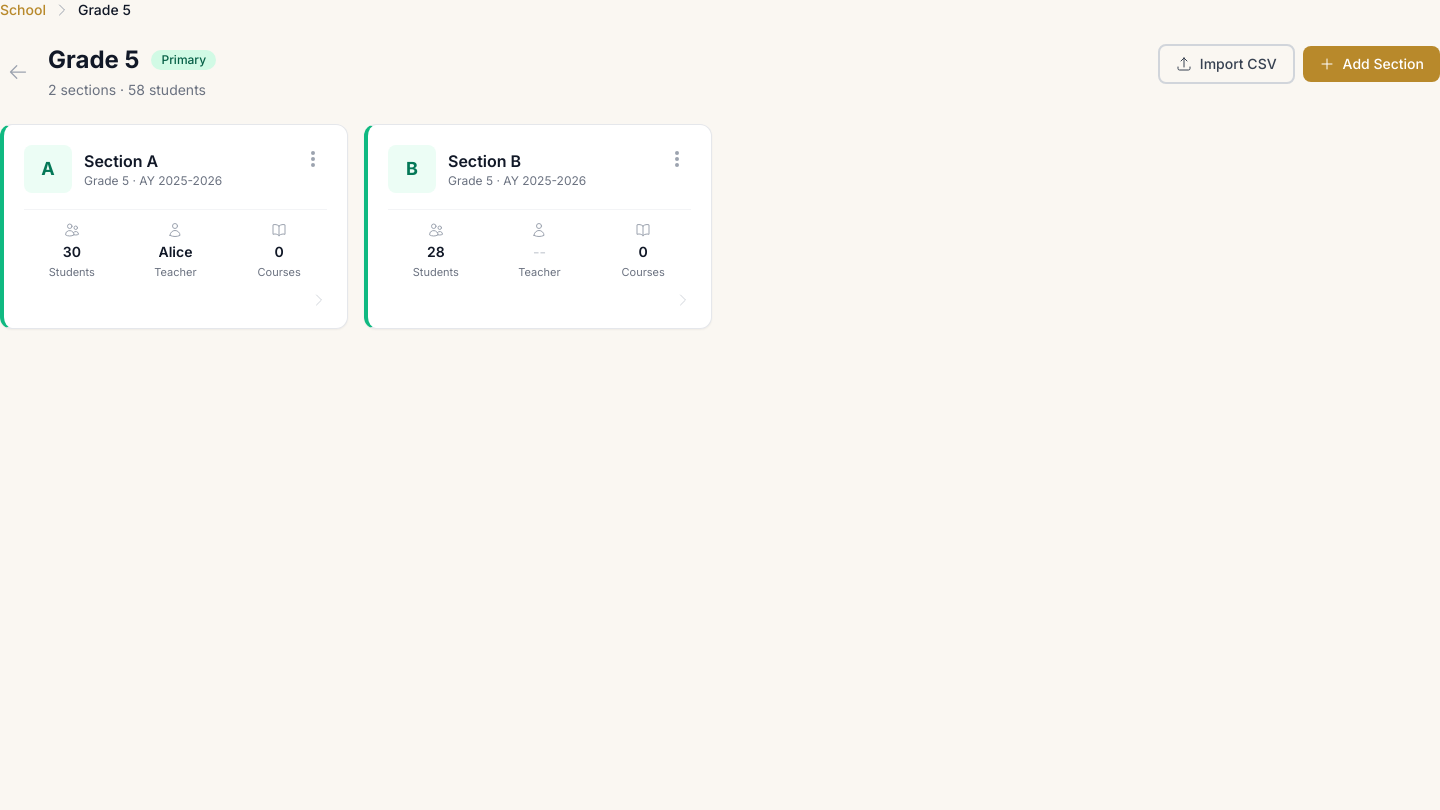
Test case: GradeDetailPage › 6. Add Section modal › submitting with empty section name shows "Section name is required"
Click the button "Add Section": [1371, 64] box [1303, 46, 1439, 82]
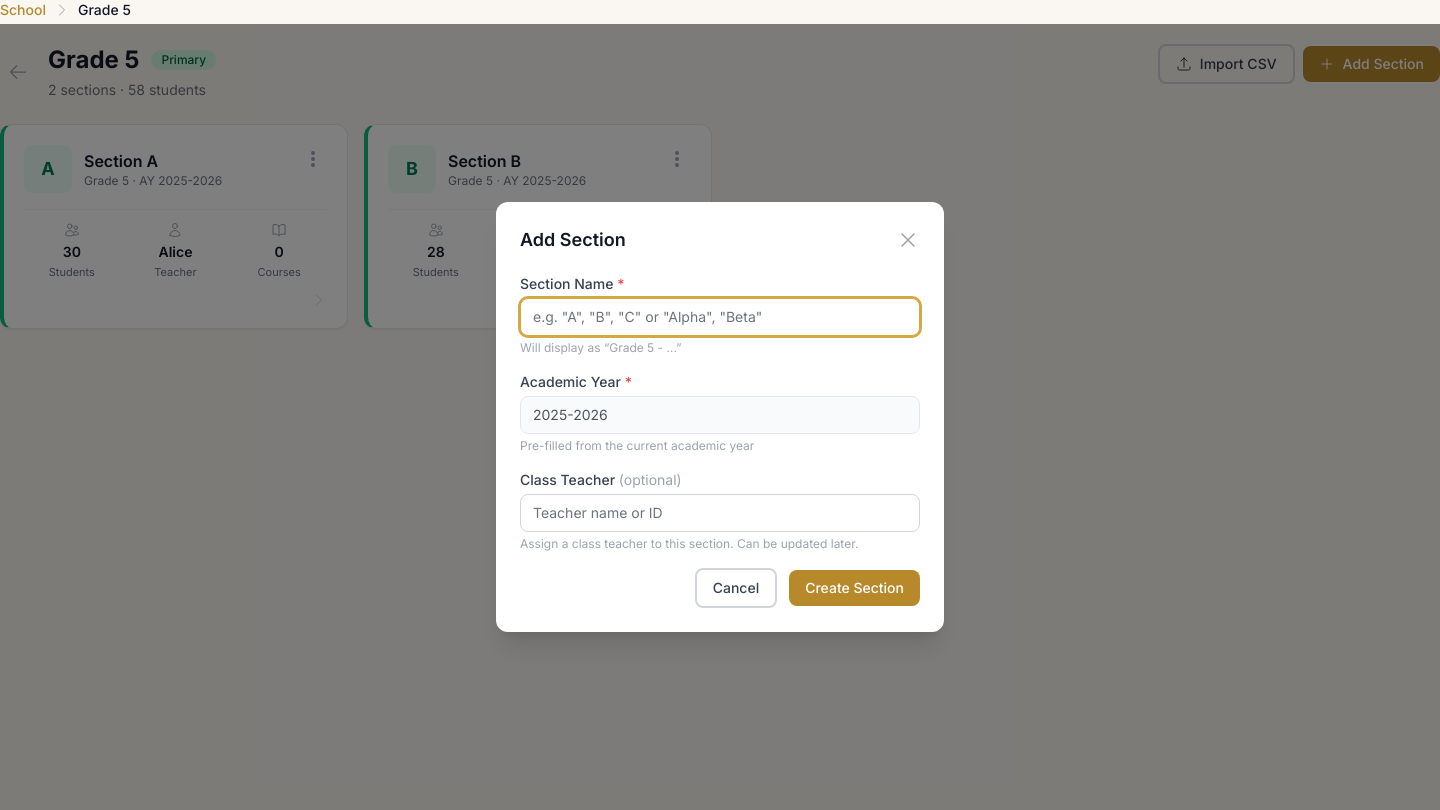
Check: the button "Create Section" is shown
# Submit without entering a name
Click the button "Create Section": [855, 588] box [789, 570, 920, 606]
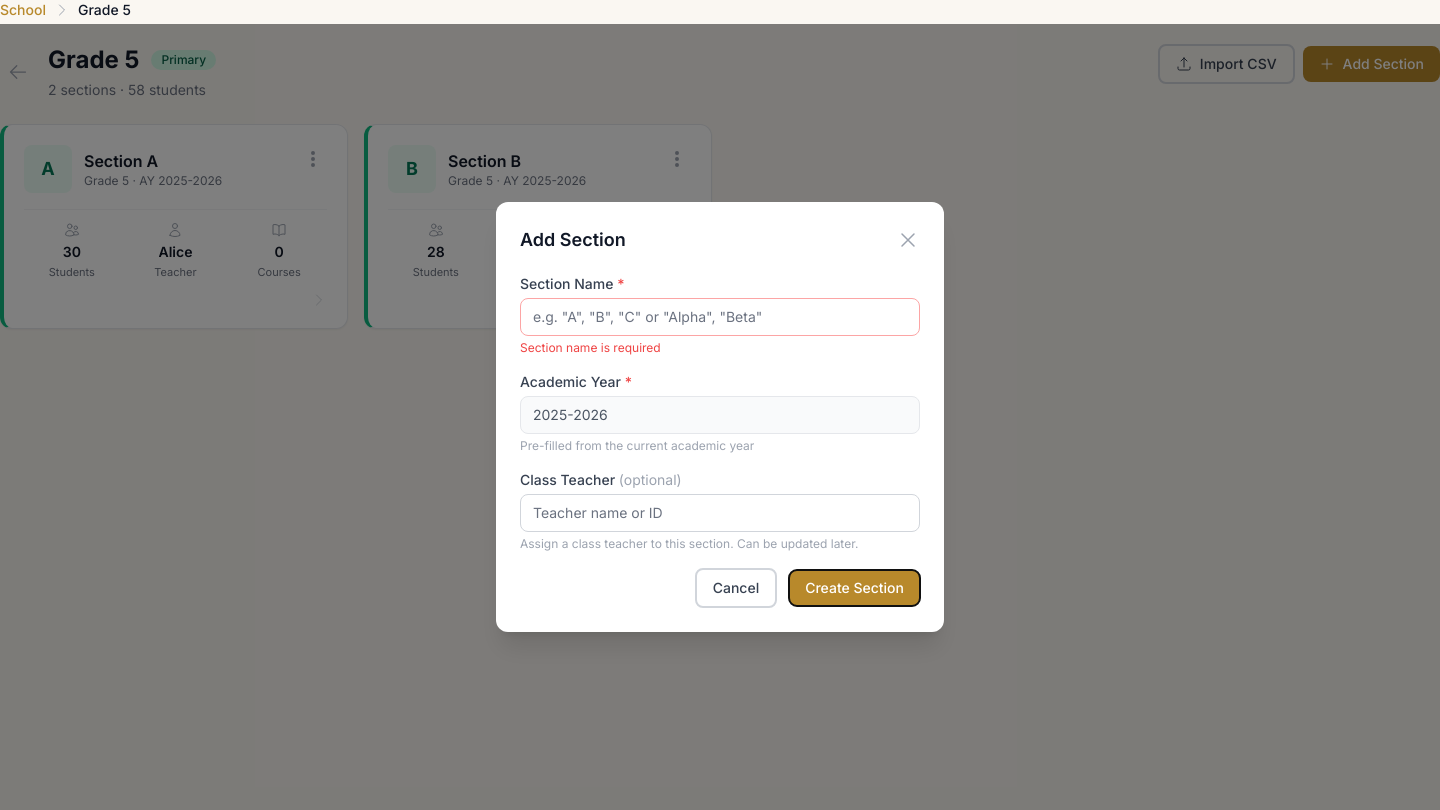
Check: the text "Section name is required" is shown, box [520, 340, 661, 355]
